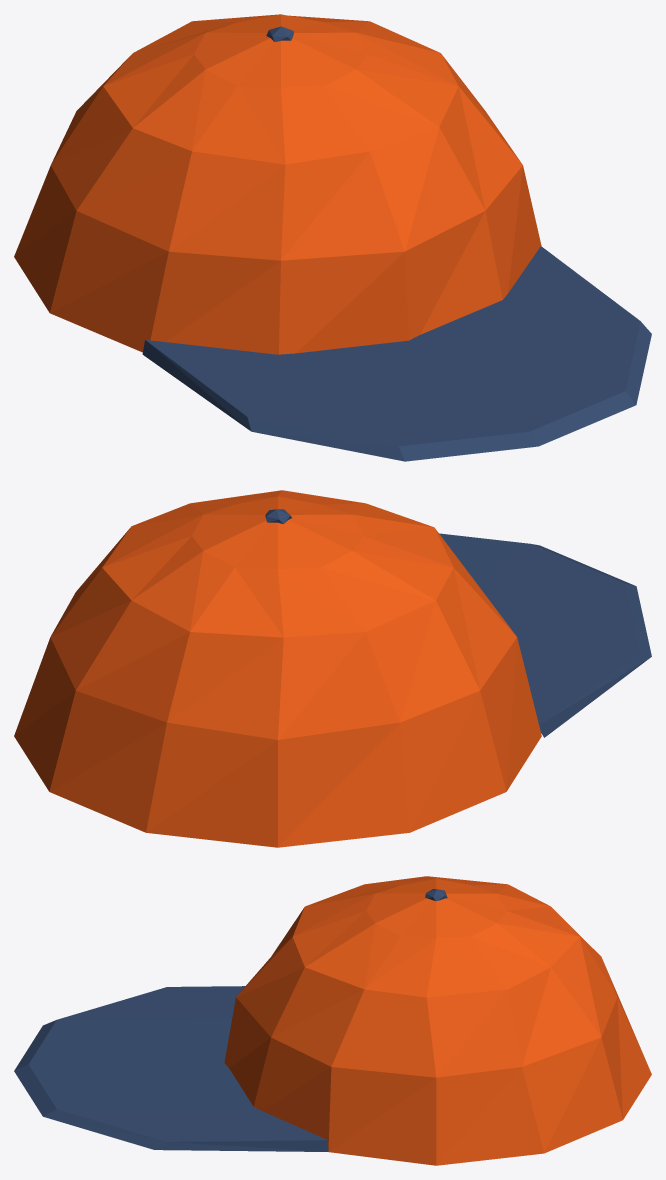
The model's file is Baseball_cap_orange.fbx.
3 renders of one model, top to bottom at view 1: azimuth 30°, elevation 25°; view 2: azimuth 150°, elevation 25°; view 3: azimuth 270°, elevation 25°, orthographic. The views are drawn at different scales.
Parts seen in each view (by area): view 1: Baseball_cap_orange; view 2: Baseball_cap_orange; view 3: Baseball_cap_orange.
Part boxes in pixels (x1,y1,x2,y2): Baseball_cap_orange: [14, 14, 651, 461]; Baseball_cap_orange: [14, 490, 651, 847]; Baseball_cap_orange: [14, 876, 651, 1165].
Bounding box in the file's own units: 16.97 × 8.06 × 25.1.
